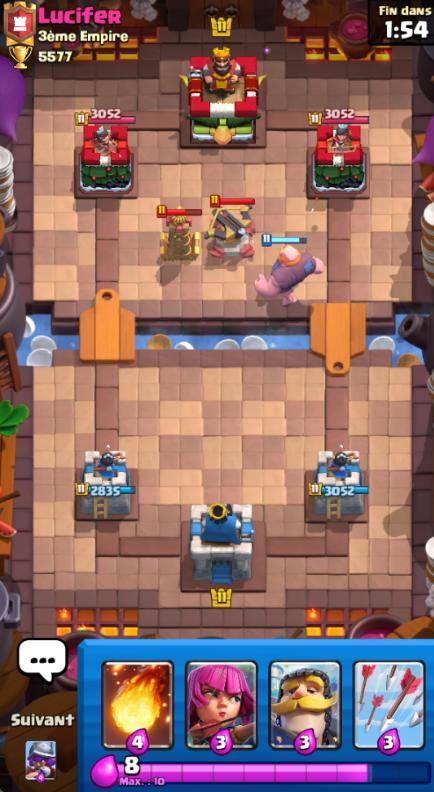geant: (258, 253, 319, 303)
